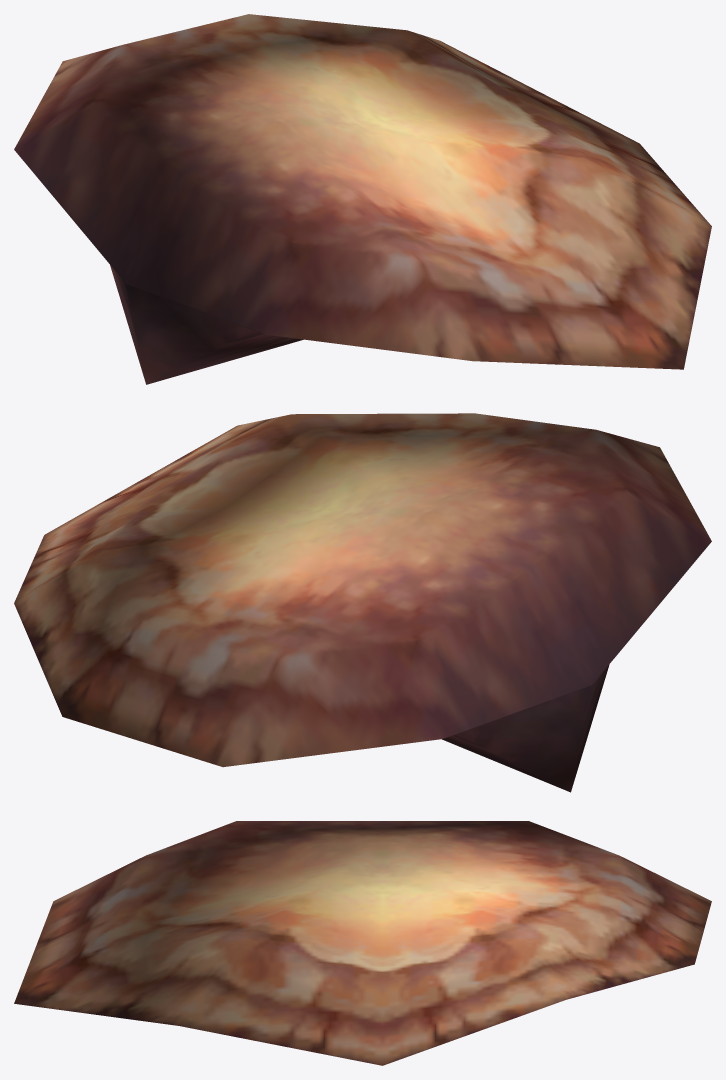
Rendered from zangarmushroomshelf02.obj.
The picture shows the model from 3 angles, top to bottom: view 1: azimuth 30°, elevation 25°; view 2: azimuth 150°, elevation 25°; view 3: azimuth 270°, elevation 25°; orthographic projection. The views are drawn at different scales.
Parts seen in each view (by area): view 1: zangarmushroomshelf02; view 2: zangarmushroomshelf02; view 3: zangarmushroomshelf02.
Boxes of the visible parts, x1,y1,x2,y2 form: zangarmushroomshelf02: [14, 14, 711, 384]; zangarmushroomshelf02: [14, 413, 711, 792]; zangarmushroomshelf02: [14, 821, 711, 1065].
Bounding box in the file's own units: 2.23 × 0.9409 × 3.26.
